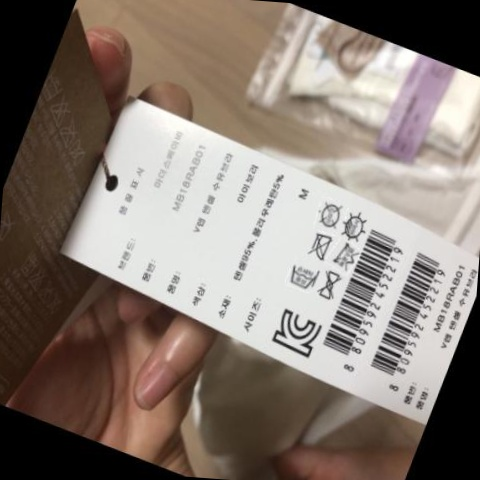DN_dry_clean: (315, 198, 345, 231)
DN_iron: (306, 230, 337, 262)
DN_wring: (319, 271, 348, 301)
dry_flat_in_shade: (343, 208, 370, 238)
hand_wash: (288, 262, 323, 291)
non_chlorine_bleach: (337, 242, 363, 270)
